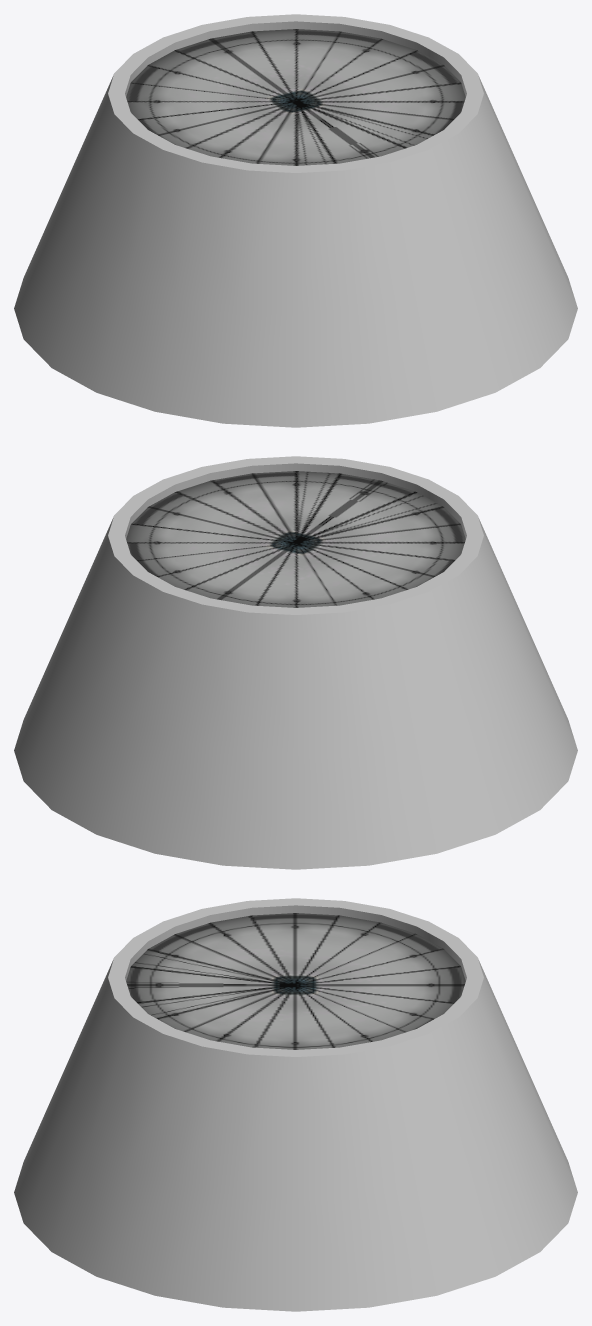
The model's file is Apollo_AARDV_NoseAdapter.dae.
3 views of the same model, one above another, from view 1: azimuth 30°, elevation 25°; view 2: azimuth 150°, elevation 25°; view 3: azimuth 270°, elevation 25° (orthographic).
Parts seen in each view (by area): view 1: polySurface81, polySurface80; view 2: polySurface81, polySurface80; view 3: polySurface81, polySurface80.
Boxes of the visible parts, x1,y1,x2,y2 form: polySurface81: (14, 14, 577, 427); polySurface80: (126, 29, 465, 165); polySurface81: (14, 456, 577, 869); polySurface80: (126, 471, 465, 607); polySurface81: (14, 898, 577, 1311); polySurface80: (126, 913, 465, 1049).
Size of what is drawn, in the model's own units: 0.9376 by 0.3942 by 0.9376.
